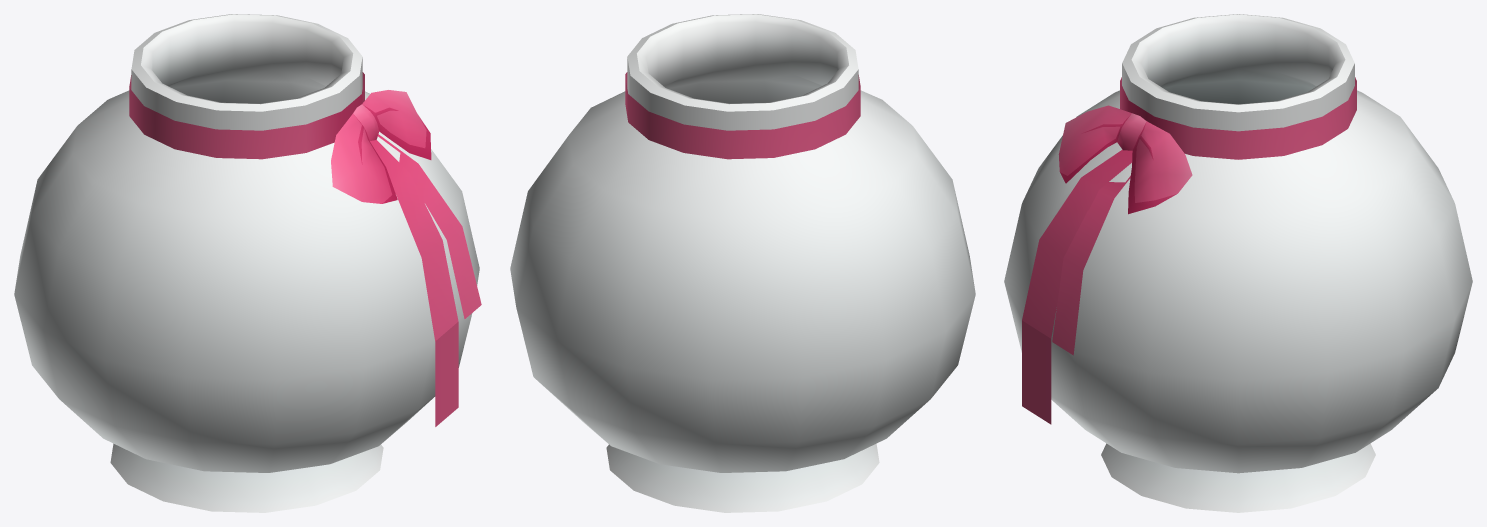
The model's file is CRvalentines_candy_001.FBX.
3 views of the same model, side by side, from view 1: azimuth 30°, elevation 25°; view 2: azimuth 150°, elevation 25°; view 3: azimuth 270°, elevation 25° (orthographic).
Parts seen in each view (by area): view 1: crvalentines_candy_001; view 2: crvalentines_candy_001; view 3: crvalentines_candy_001.
Part boxes in pixels (bbox=[...]): crvalentines_candy_001: bbox=[14, 14, 481, 512]; crvalentines_candy_001: bbox=[510, 14, 975, 512]; crvalentines_candy_001: bbox=[1004, 14, 1472, 512].
Bounding box in the file's own units: 24 × 22.33 × 24.
Materials: 1 (1 with a texture image).
